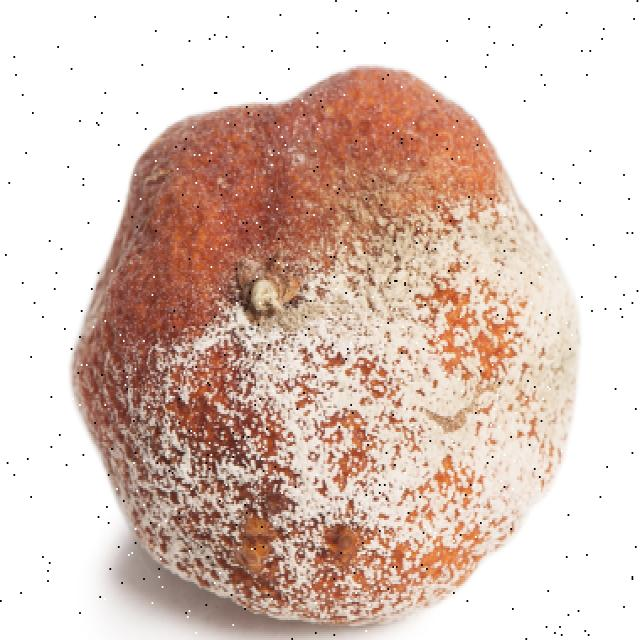sangat_busuk: (68, 64, 586, 632)
